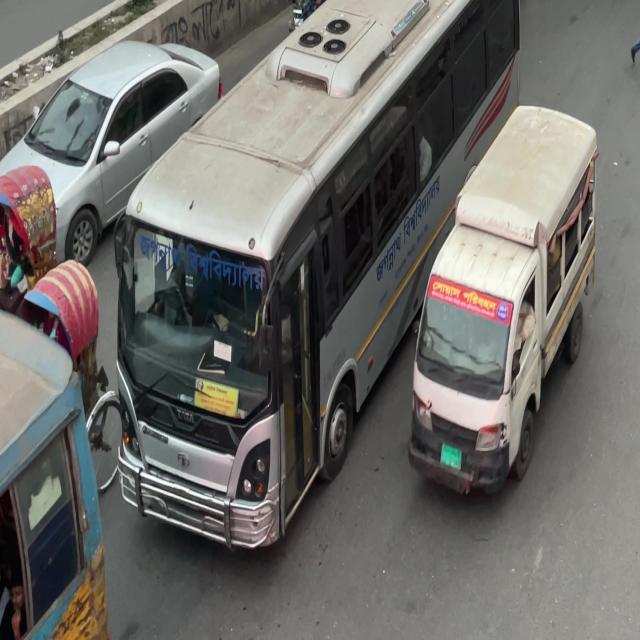bus: (112, 0, 536, 584), (0, 29, 217, 214)
van: (389, 97, 606, 505)
